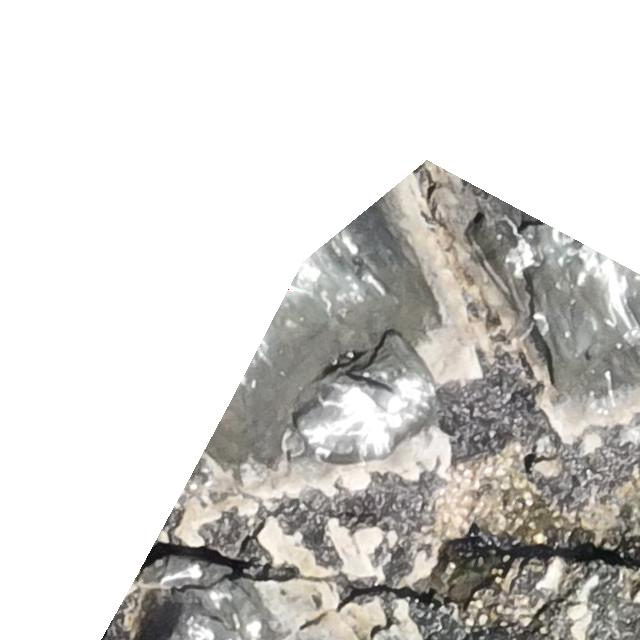umineko: (365, 381, 404, 412)
